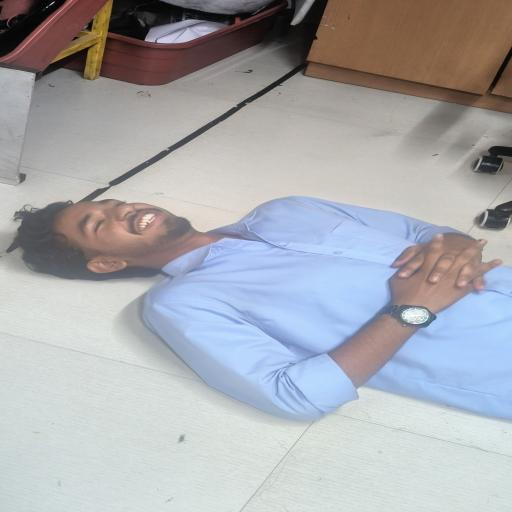survivor: (7, 196, 512, 424)
